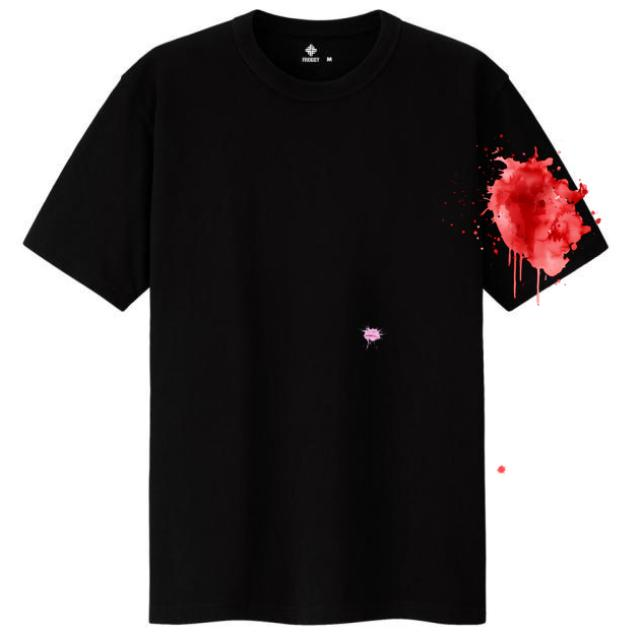stain: (438, 139, 590, 306), (355, 322, 382, 353), (497, 458, 506, 476)
